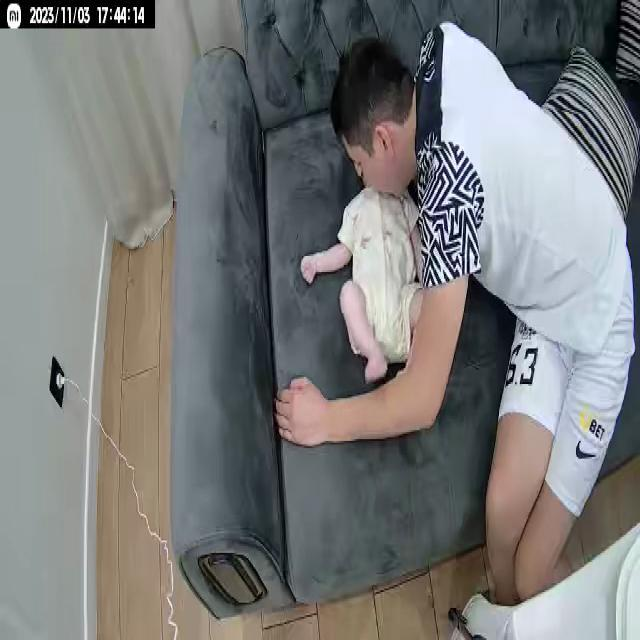baby: (299, 168, 433, 388)
